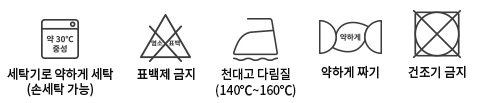KR_gentle_wring: (314, 13, 386, 58)
KR_no_chlorine_bleach: (135, 9, 197, 64)
KR_no_tumble_dry: (408, 7, 465, 62)
KR_wash_warm_30_neutral: (34, 13, 84, 63)
